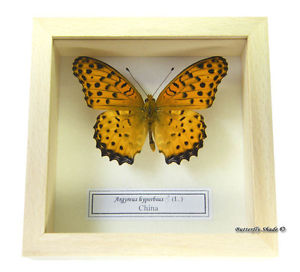Argyreus hyperbius: (68, 53, 229, 164)
butterfly: (70, 55, 231, 166)
